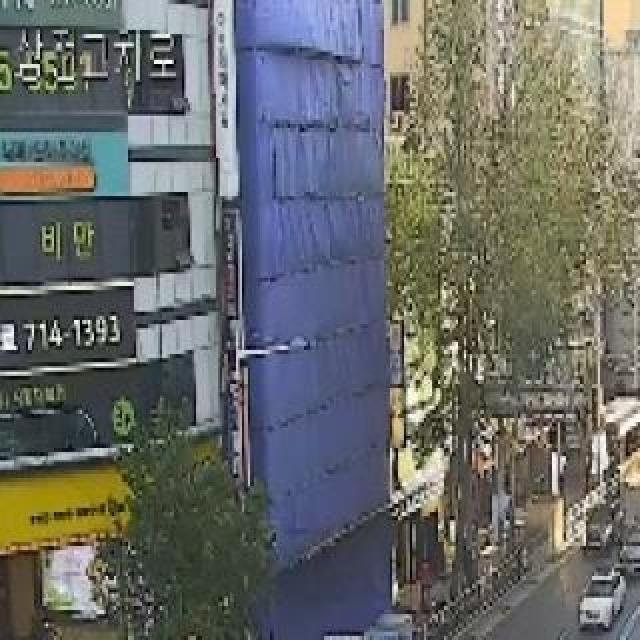car: (568, 564, 640, 632)
